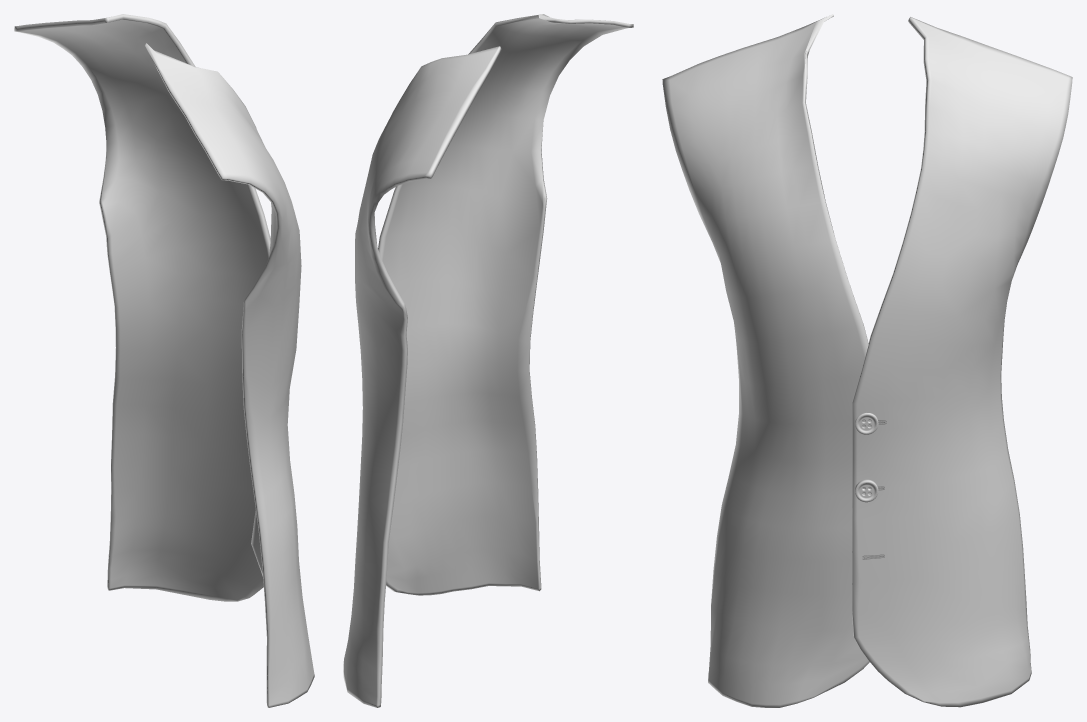
3 renders of one model, left to right at view 1: azimuth 30°, elevation 25°; view 2: azimuth 150°, elevation 25°; view 3: azimuth 270°, elevation 25°, orthographic.
Visible parts, largest first — view 1: SM_J__FrontB3; view 2: SM_J__FrontB3; view 3: SM_J__FrontB3, SM_J_B__FrontB3.
Part boxes in pixels (box(x1,y1,x2,y2)): SM_J__FrontB3: box(14, 14, 314, 707); SM_J__FrontB3: box(343, 14, 633, 707); SM_J__FrontB3: box(662, 14, 1072, 707); SM_J_B__FrontB3: box(855, 413, 886, 559).
Bounding box in the file's own units: 1.07 × 4.05 × 2.38.
4 materials, 1 textured.
